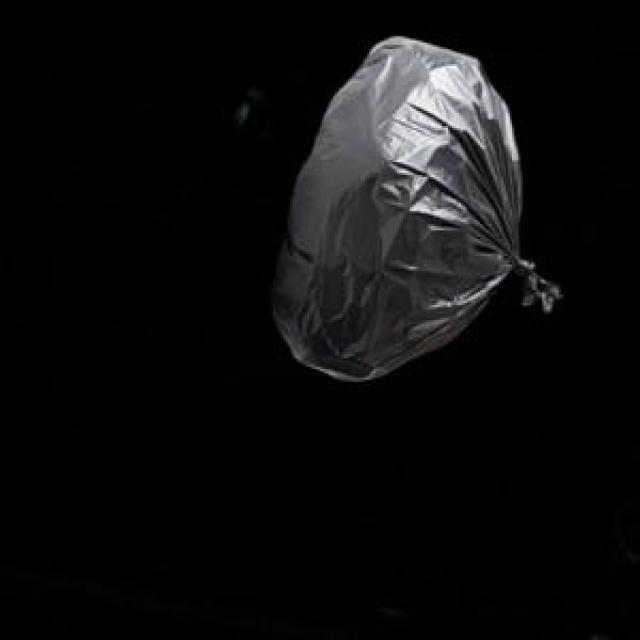Trashbag: (266, 33, 565, 387)
